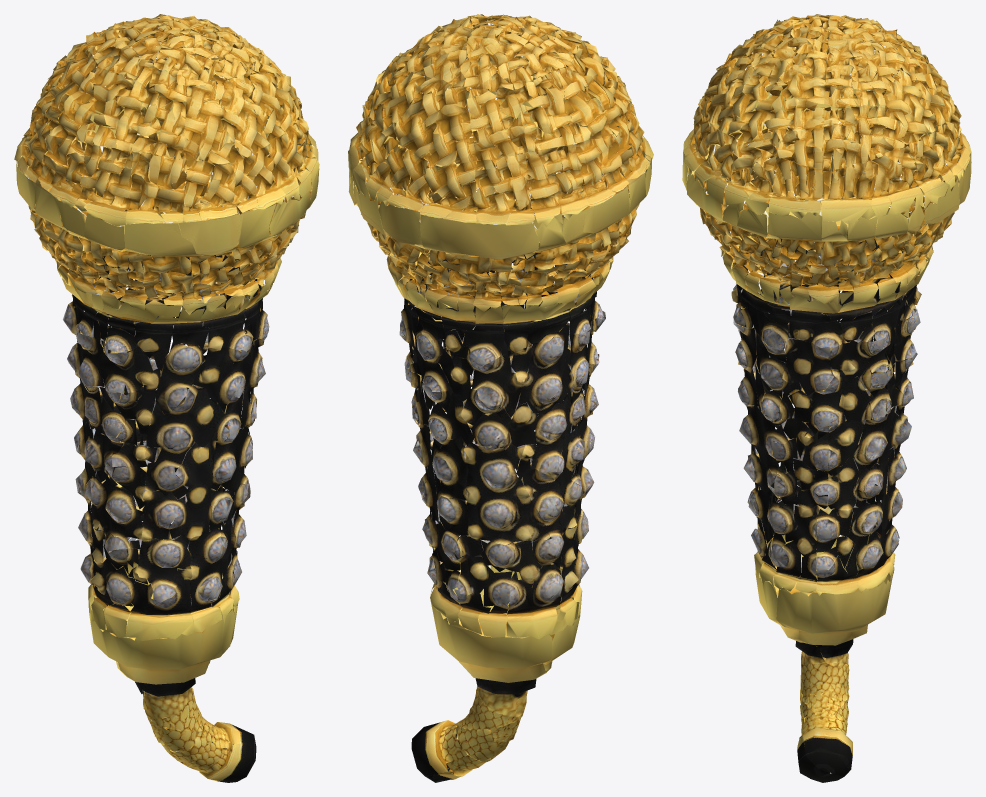
The model's file is mic.glb.
3 renders of one model, left to right at view 1: azimuth 30°, elevation 25°; view 2: azimuth 150°, elevation 25°; view 3: azimuth 270°, elevation 25°, orthographic. The views are drawn at different scales.
Visible parts, largest first — view 1: mic; view 2: mic; view 3: mic.
Part boxes in pixels (x1,y1,x2,y2): mic: (14,14,319,782); mic: (348,14,653,782); mic: (682,14,971,782).
Size of the model in its own units: 0.1082 by 0.3 by 0.1079.
Materials: 1 (1 with a texture image).
